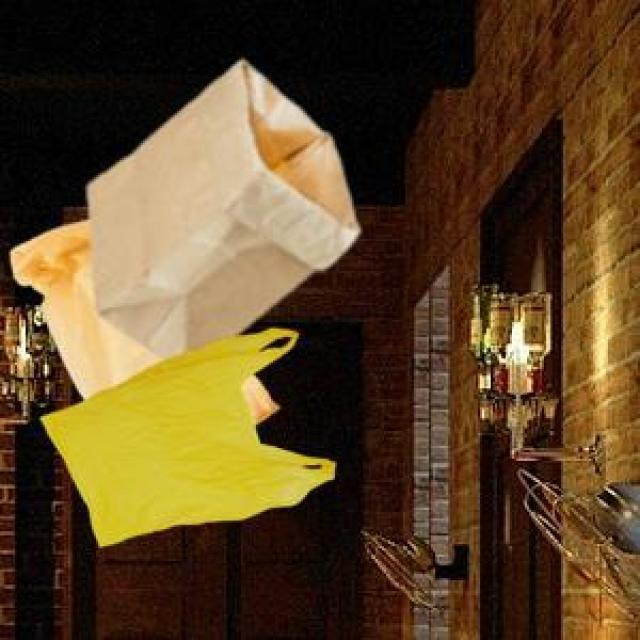paper: (83, 58, 354, 356)
